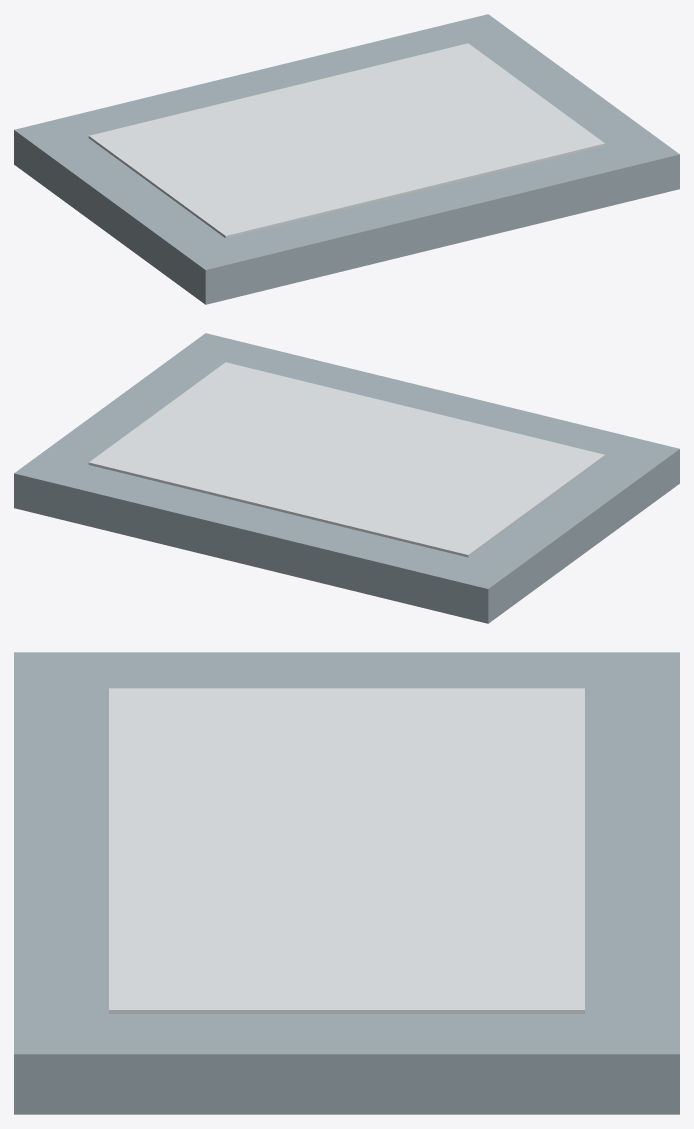
The model's file is SSD.fbx.
3 renders of one model, top to bottom at view 1: azimuth 30°, elevation 25°; view 2: azimuth 150°, elevation 25°; view 3: azimuth 270°, elevation 25°, orthographic. The views are drawn at different scales.
Parts seen in each view (by area): view 1: SSD; view 2: SSD; view 3: SSD.
Boxes of the visible parts, x1,y1,x2,y2 form: SSD: [14, 14, 679, 304]; SSD: [14, 333, 679, 623]; SSD: [14, 652, 679, 1114].
Size of the model in its own units: 10 by 0.75 by 7.
